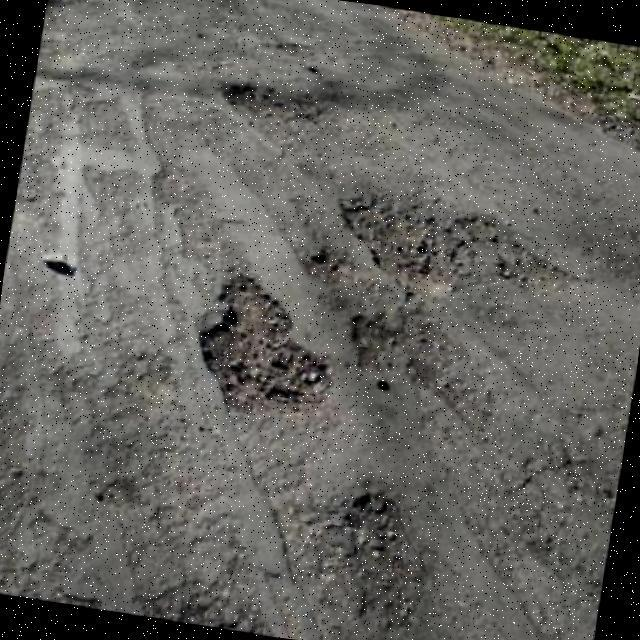Pothole: (339, 193, 576, 299), (200, 274, 331, 414), (319, 492, 409, 624), (351, 302, 464, 387), (222, 85, 320, 146)
